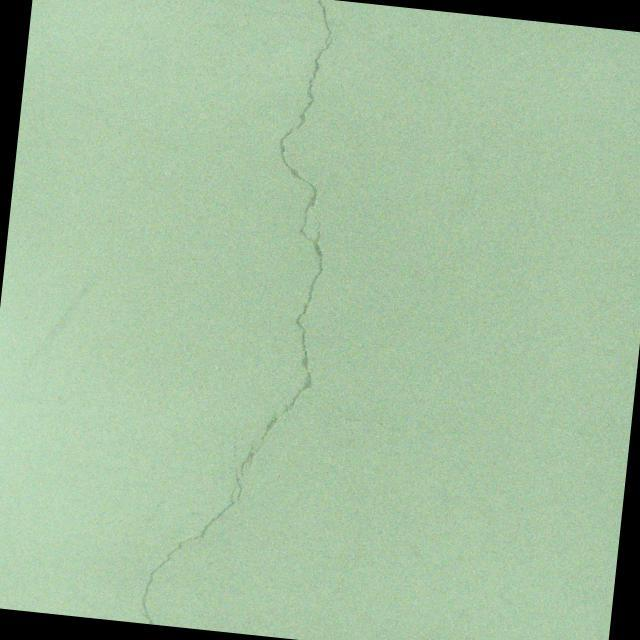crack: (136, 0, 535, 640), (492, 410, 630, 455), (122, 503, 144, 564)
